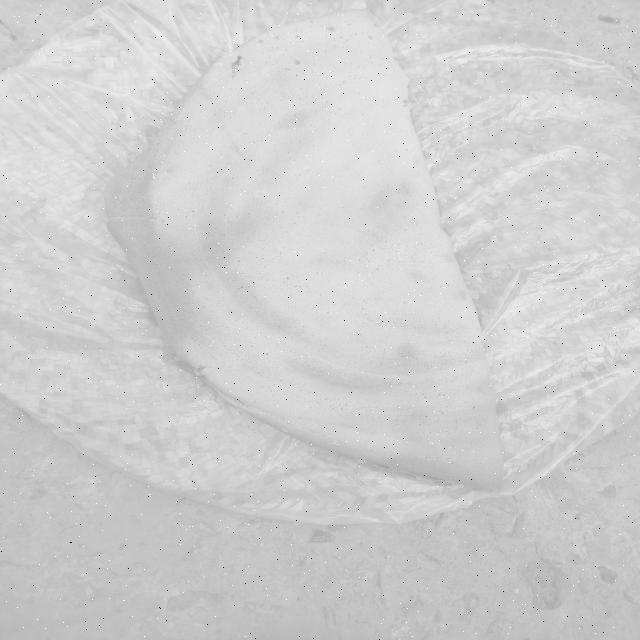injera_mold: (253, 190, 268, 198), (259, 30, 274, 37), (222, 51, 233, 58), (212, 62, 224, 68), (327, 26, 337, 33), (292, 59, 301, 66), (400, 300, 410, 306), (330, 440, 340, 445), (294, 34, 302, 40), (238, 59, 244, 67), (256, 39, 264, 44), (366, 35, 374, 40), (151, 173, 156, 179), (448, 447, 454, 452), (434, 434, 440, 439), (274, 36, 281, 40), (328, 434, 334, 438), (309, 20, 315, 24), (234, 56, 238, 62), (346, 23, 352, 26), (289, 56, 294, 59), (345, 39, 350, 42), (427, 438, 430, 441), (438, 440, 441, 442), (429, 443, 432, 445), (439, 430, 442, 432), (306, 441, 308, 443), (445, 429, 447, 431), (165, 172, 167, 173), (153, 183, 155, 184), (154, 170, 156, 171), (160, 181, 162, 182), (169, 176, 170, 178)
